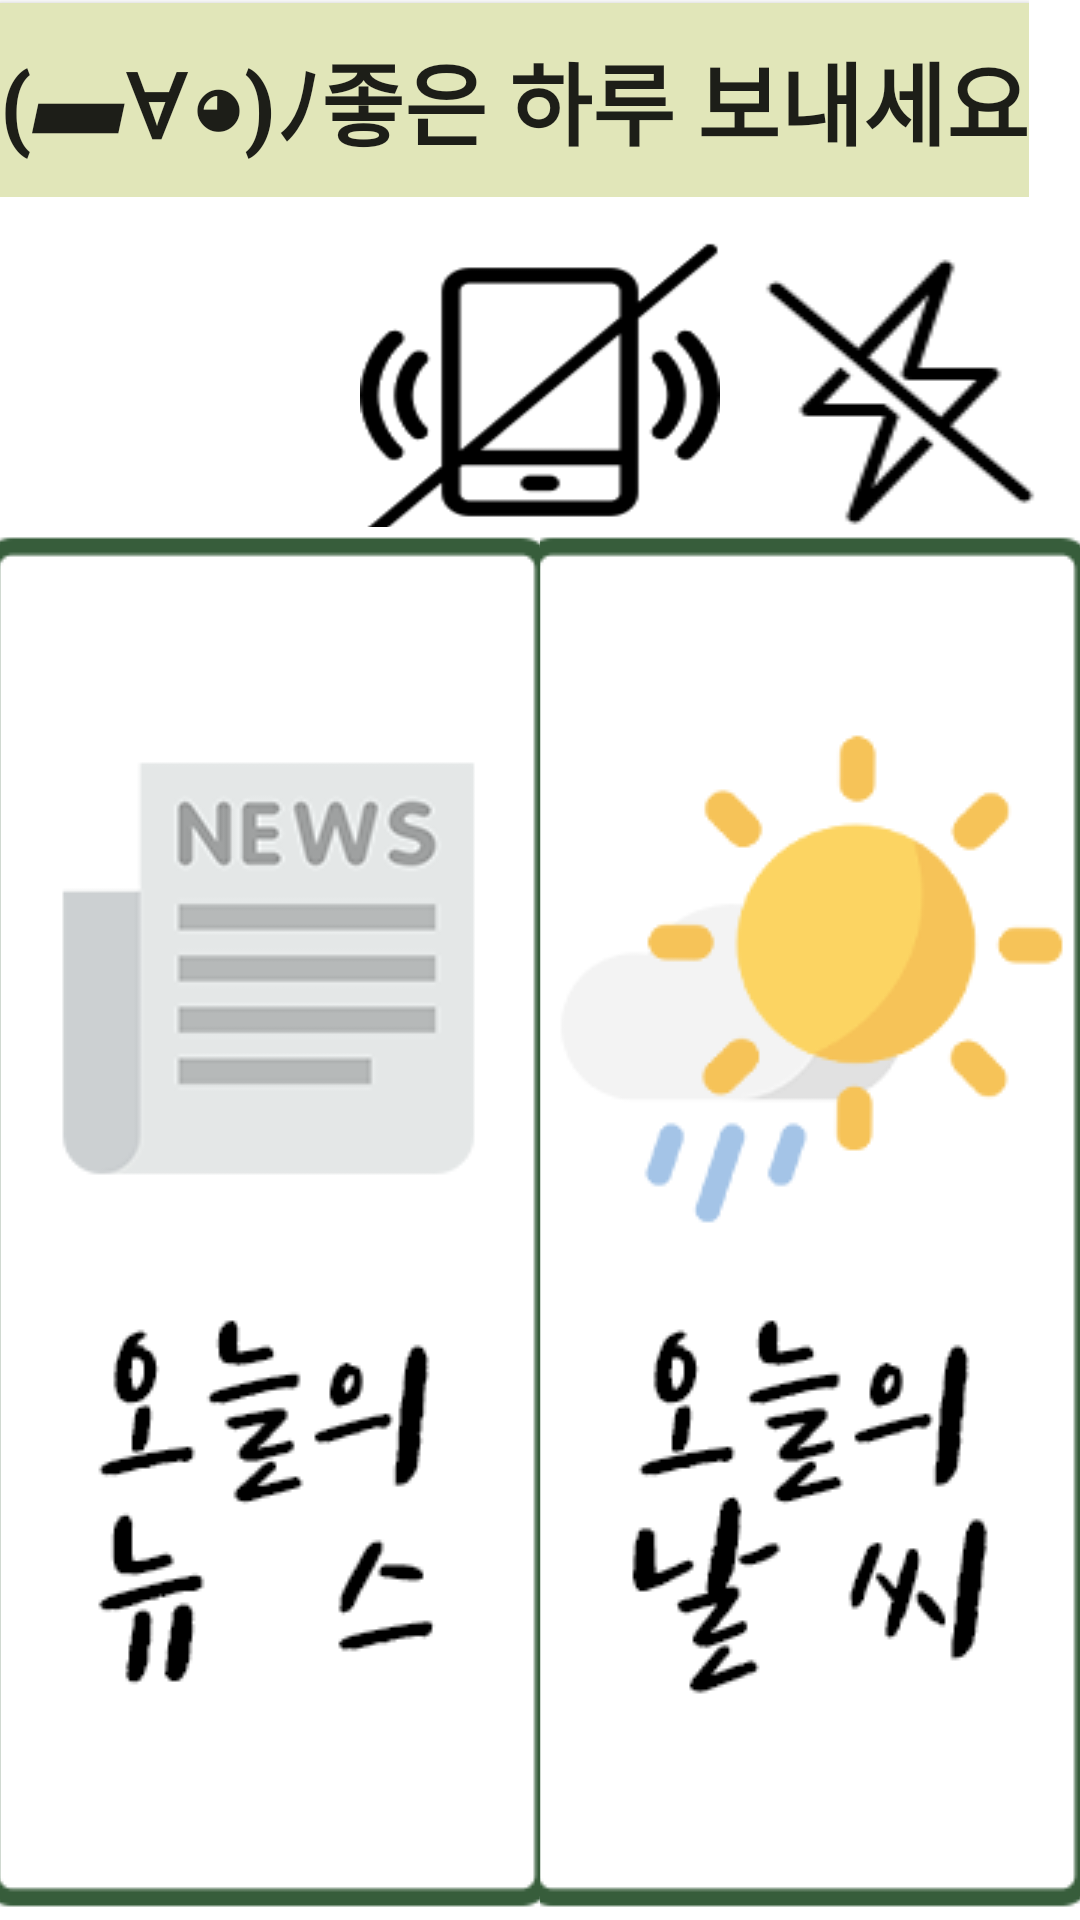

Where to tap for icons on this 1080w x 1920h app screen, as [x,y]:
flash: [900,392]
vibe: [540,385]
